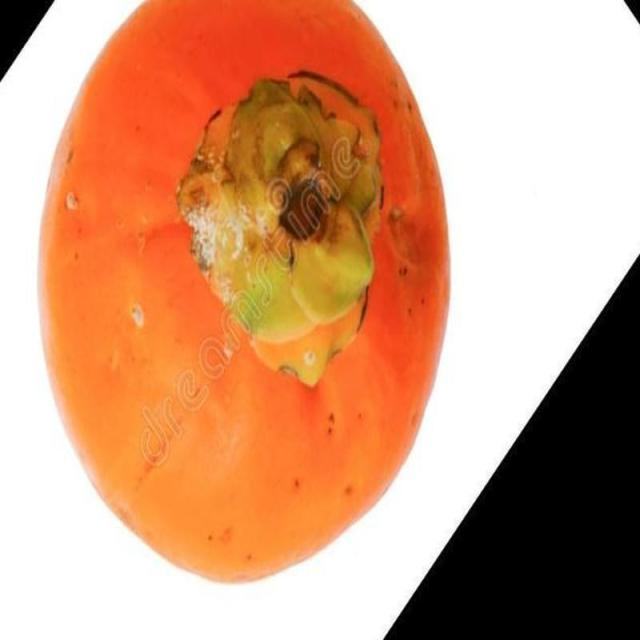good: (36, 0, 452, 586)
